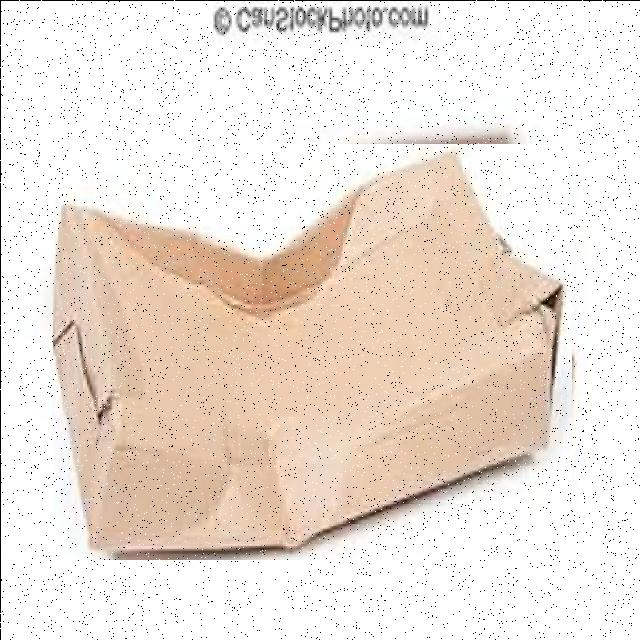defect: (52, 143, 571, 559)
